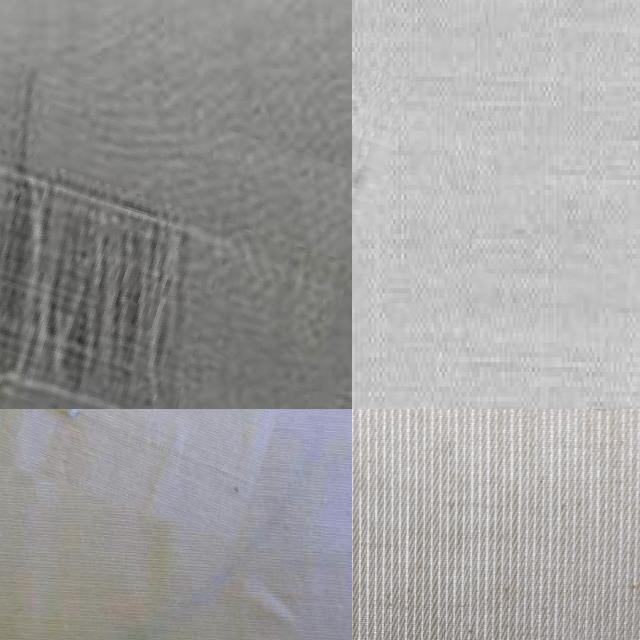other: (352, 40, 399, 260)
stains: (0, 60, 352, 409), (0, 409, 278, 516)
